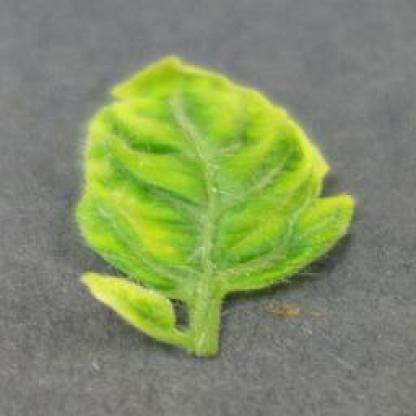bad leaf: (182, 160, 354, 274), (119, 62, 287, 176), (104, 235, 234, 362), (69, 146, 202, 270)
